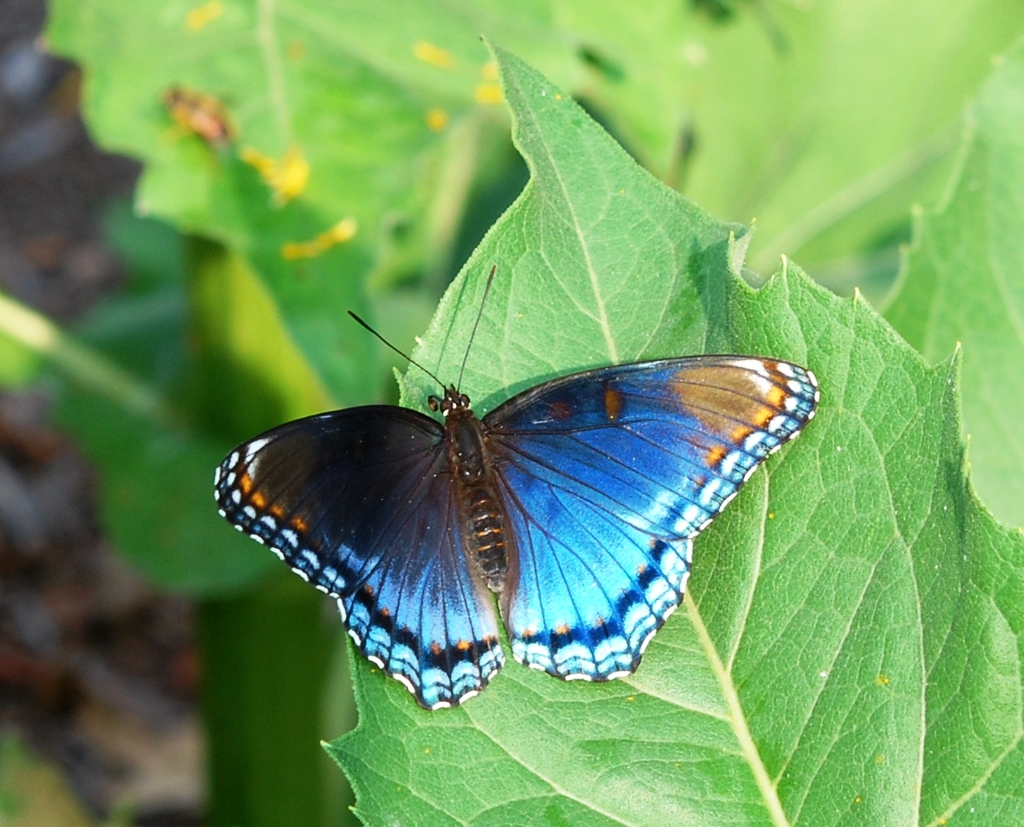Butterfly: (162, 354, 815, 705)
